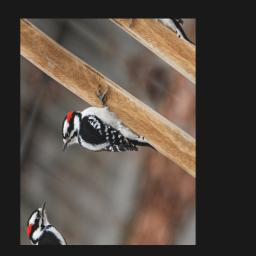Woodpecker: (55, 67, 165, 206)
